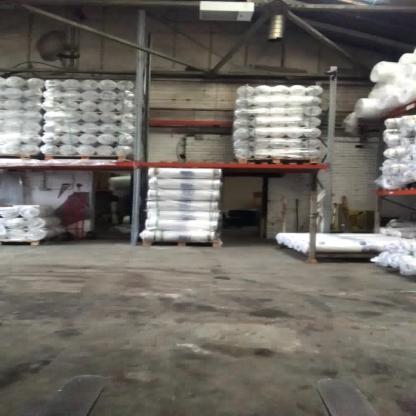vertical_damage: (127, 232, 149, 251)
